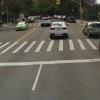Car: (46, 16, 70, 44)
